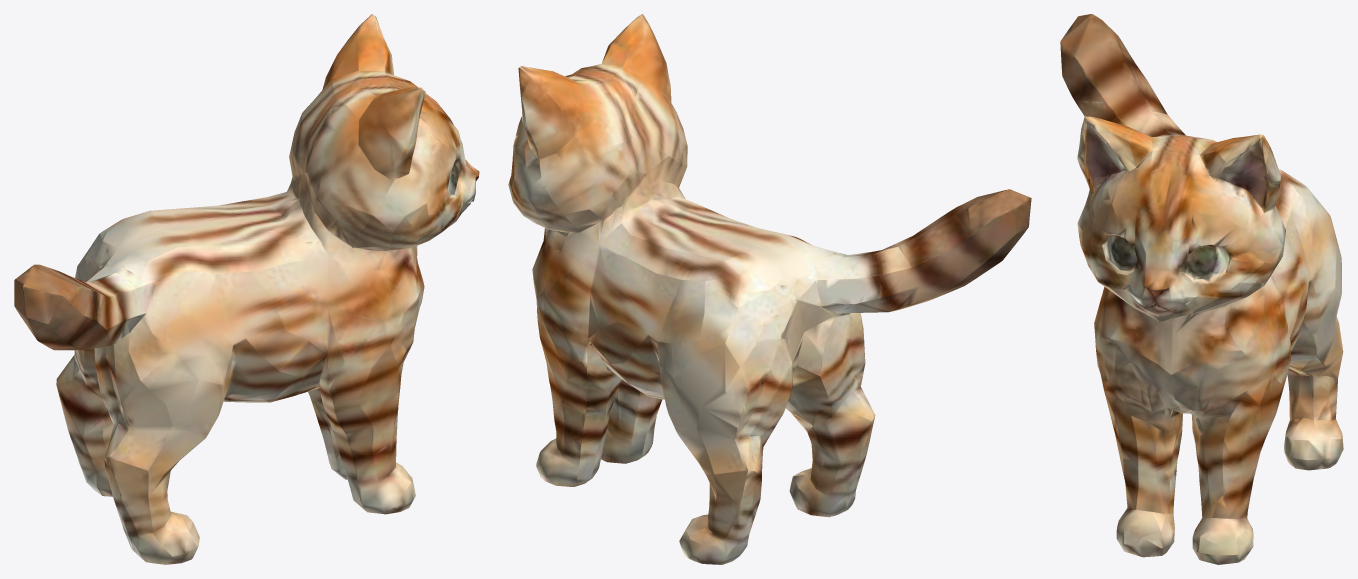
The model's file is HUNCHPAW-lo.glb.
3 renders of one model, left to right at view 1: azimuth 30°, elevation 25°; view 2: azimuth 150°, elevation 25°; view 3: azimuth 270°, elevation 25°, orthographic. The views are drawn at different scales.
Visible parts, largest first — view 1: fit; view 2: fit; view 3: fit.
Part boxes in pixels (bbox=[...]): fit: bbox=[14, 14, 479, 564]; fit: bbox=[508, 14, 1031, 564]; fit: bbox=[1060, 14, 1343, 564].
Size of the model in its own units: 1.19 by 0.9998 by 0.5907.
1 material, 1 textured.
